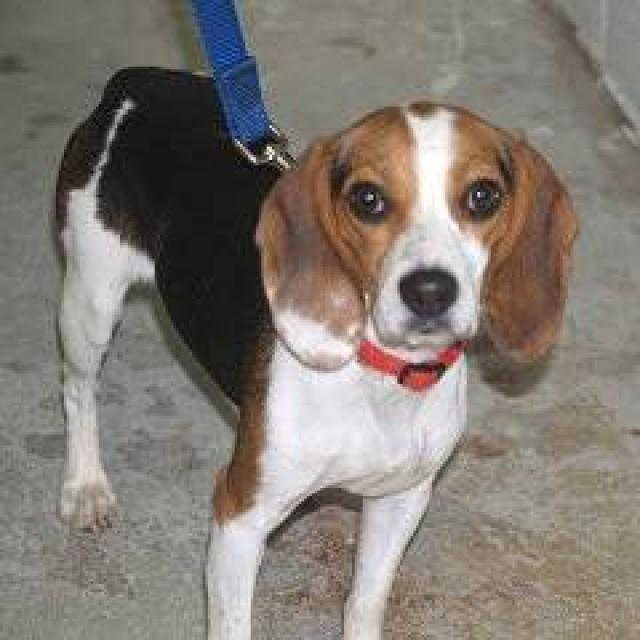cat: (35, 40, 584, 640)
